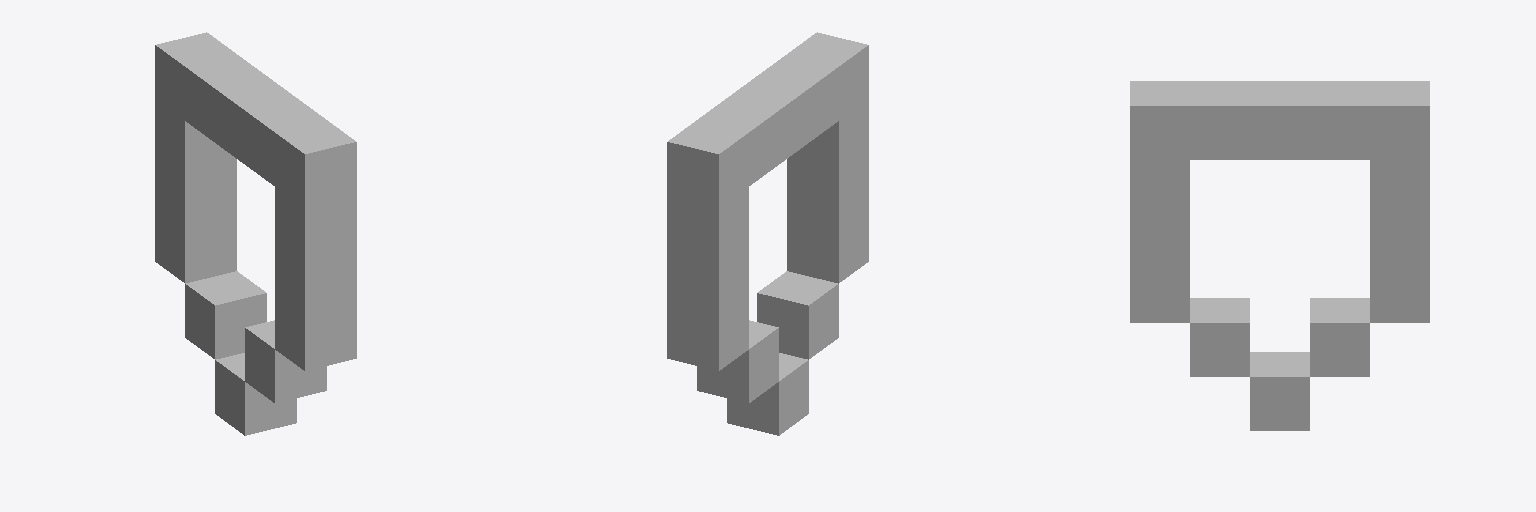
Rendered from SkateHandle.obj.
The picture shows the model from 3 angles: view 1: azimuth 30°, elevation 25°; view 2: azimuth 150°, elevation 25°; view 3: azimuth 270°, elevation 25°; orthographic projection.
Visible parts, largest first — view 1: object 1; view 2: object 1; view 3: object 1.
Boxes of the visible parts, x1,y1,x2,y2 form: object 1: [155, 32, 356, 435]; object 1: [667, 32, 868, 435]; object 1: [1130, 81, 1429, 430].
Size of the model in its own units: 0.1 by 0.6 by 0.5.